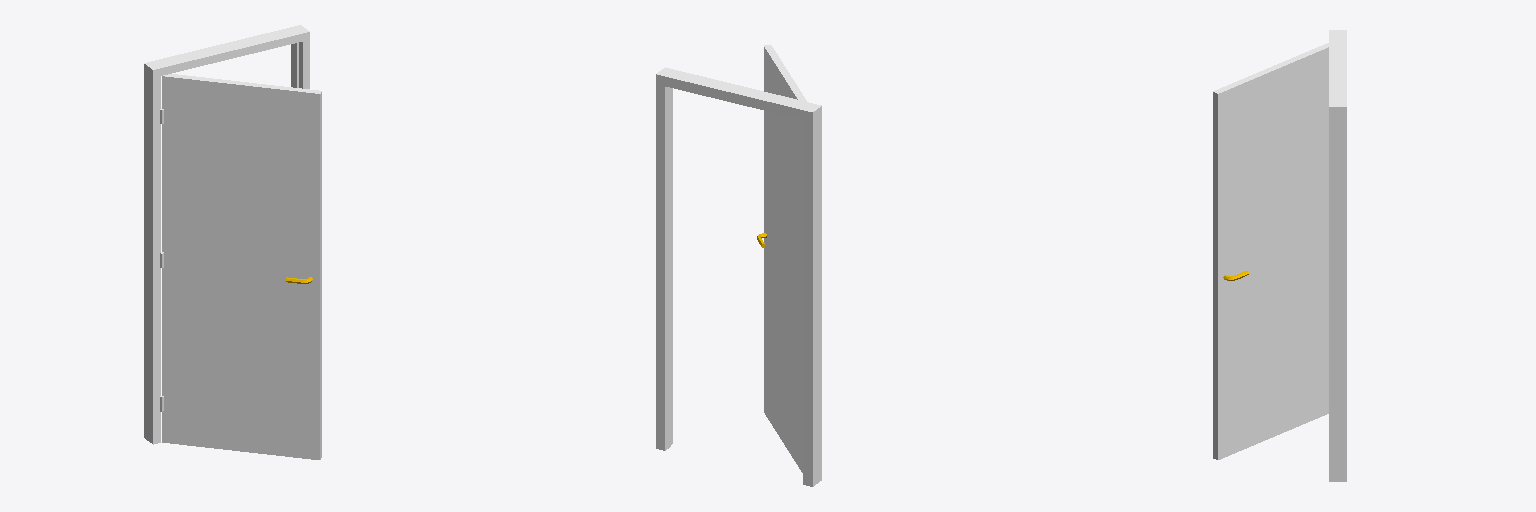
The picture shows the model from 3 angles: view 1: azimuth 30°, elevation 25°; view 2: azimuth 150°, elevation 25°; view 3: azimuth 270°, elevation 25°; orthographic projection.
Parts seen in each view (by area): view 1: Porte_5, Montant_6; view 2: Montant_6, Porte_5; view 3: Porte_5, Montant_6.
Part boxes in pixels (x1,y1,x2,y2): Porte_5: (162, 74, 321, 459); Montant_6: (144, 25, 309, 444); Montant_6: (656, 67, 821, 486); Porte_5: (764, 45, 806, 472); Porte_5: (1213, 43, 1328, 459); Montant_6: (1329, 30, 1346, 481).
Bounding box in the file's own units: 0.915 × 2.08 × 0.6804.